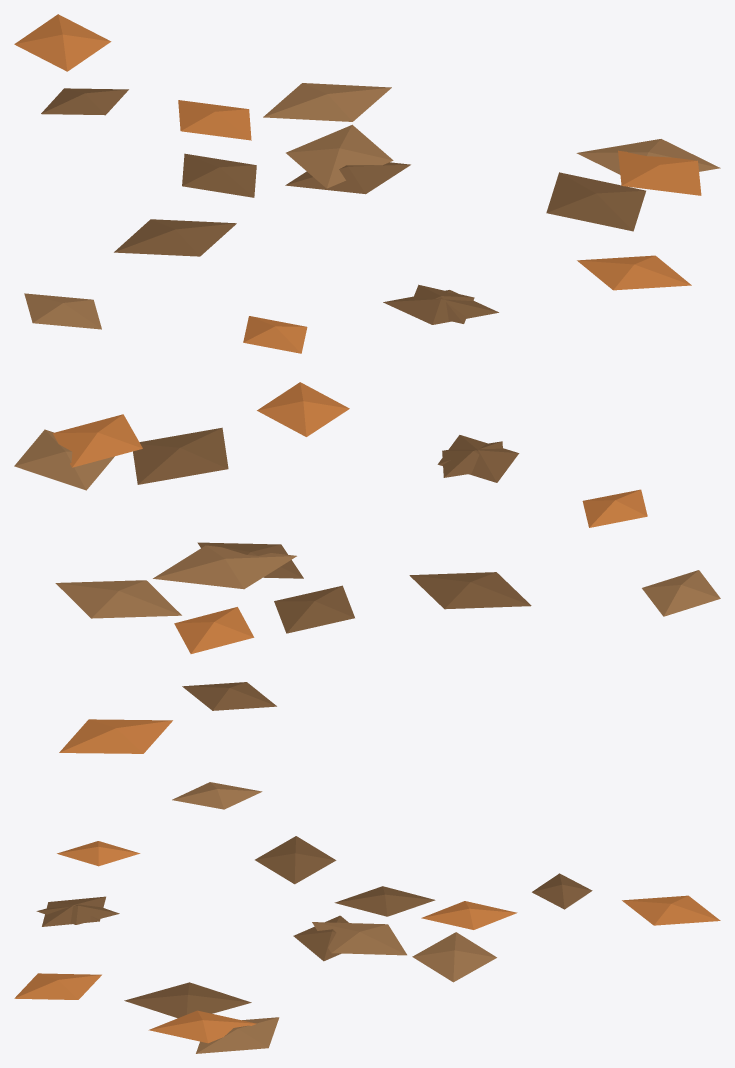
File: HS_LP_Ground_Leaves_01.fbx
3 renders of one model, top to bottom at view 1: azimuth 30°, elevation 25°; view 2: azimuth 150°, elevation 25°; view 3: azimuth 270°, elevation 25°, orthographic. The views are drawn at different scales.
Visible parts, largest first — view 1: HS_LP_Ground_Leaves_01; view 2: HS_LP_Ground_Leaves_01; view 3: HS_LP_Ground_Leaves_01.
Part boxes in pixels (x1=…): HS_LP_Ground_Leaves_01: x1=14, y1=14, x2=720, y2=353; HS_LP_Ground_Leaves_01: x1=14, y1=382, x2=720, y2=753; HS_LP_Ground_Leaves_01: x1=14, y1=782, x2=720, y2=1053.
Bounding box in the file's own units: 67.38 × 1.49 × 75.
